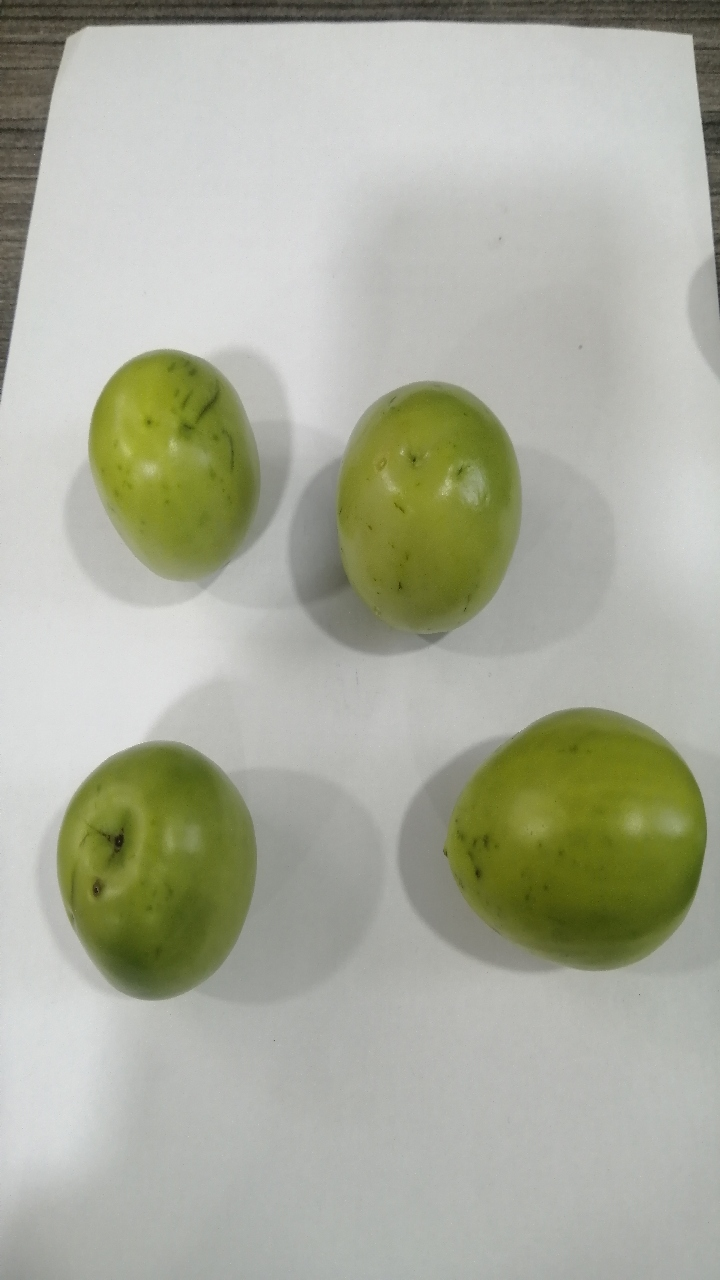tomateVerde: (411, 689, 720, 997), (31, 709, 269, 1034), (60, 299, 292, 600), (311, 355, 538, 660)
